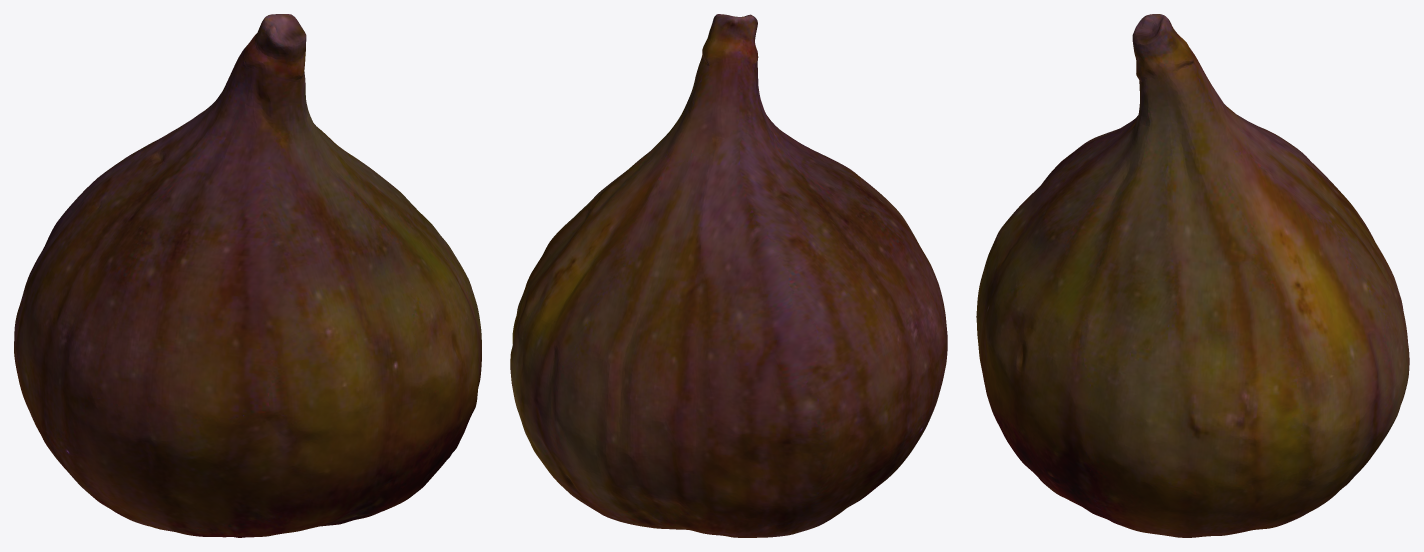
The model's file is Fig.fbx.
The picture shows the model from 3 angles, left to right: view 1: azimuth 30°, elevation 25°; view 2: azimuth 150°, elevation 25°; view 3: azimuth 270°, elevation 25°; orthographic projection. The views are drawn at different scales.
Visible parts, largest first — view 1: Fig; view 2: Fig; view 3: Fig.
Boxes of the visible parts, box(x1,y1,x2,y2) form: Fig: box(14, 14, 481, 537); Fig: box(510, 14, 947, 537); Fig: box(976, 14, 1409, 537).
Bounding box in the file's own units: 0.0519 × 0.062 × 0.051.
